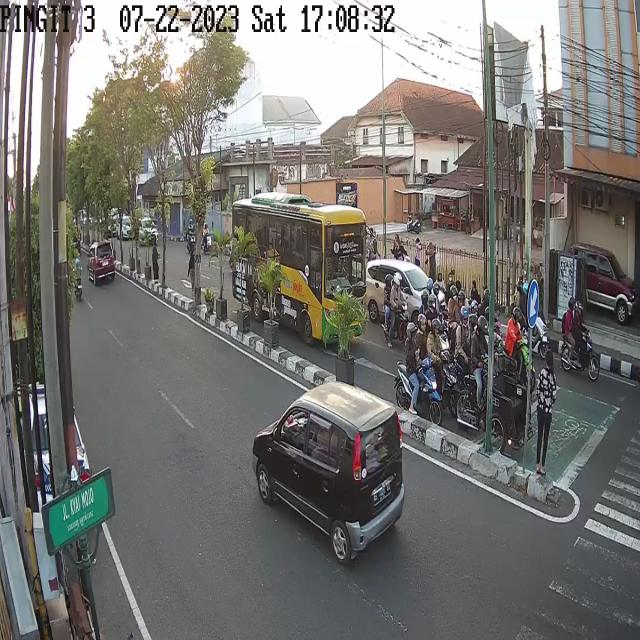bus: (226, 195, 375, 352)
car: (252, 380, 406, 561), (364, 252, 449, 332), (572, 245, 637, 327), (86, 241, 116, 284), (117, 212, 135, 242), (139, 215, 158, 243)
motorcycle: (397, 323, 439, 425), (560, 298, 602, 374), (502, 308, 534, 396), (513, 280, 547, 354), (382, 264, 406, 344), (200, 222, 213, 259), (185, 215, 198, 250)
